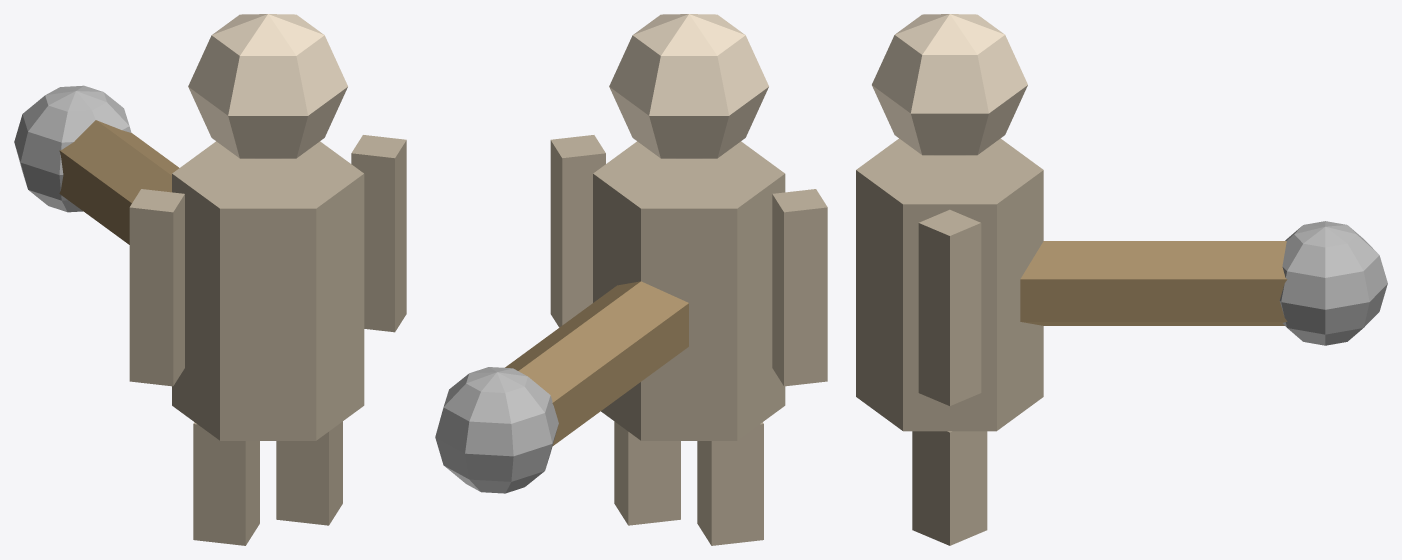
The model's file is siege_operator.glb.
3 renders of one model, left to right at view 1: azimuth 30°, elevation 25°; view 2: azimuth 150°, elevation 25°; view 3: azimuth 270°, elevation 25°, orthographic. The views are drawn at different scales.
Parts seen in each view (by area): view 1: sop_torso, sop_head, sop_al, sop_ar, ram, tip, sop_ll, sop_lr; view 2: sop_torso, sop_head, ram, tip, sop_al, sop_ar, sop_ll, sop_lr; view 3: sop_torso, ram, sop_head, sop_ar, tip, sop_lr.
Boxes of the visible parts, x1,y1,x2,y2 form: sop_torso: [172, 141, 364, 440]; sop_head: [188, 14, 347, 158]; sop_al: [129, 189, 184, 386]; sop_ar: [351, 135, 406, 332]; ram: [59, 120, 179, 244]; tip: [14, 85, 131, 212]; sop_ll: [193, 422, 259, 545]; sop_lr: [276, 421, 342, 525]; sop_torso: [593, 141, 785, 440]; sop_head: [609, 14, 768, 158]; ram: [505, 281, 688, 446]; tip: [435, 367, 558, 493]; sop_al: [772, 189, 827, 386]; sop_ar: [550, 135, 605, 327]; sop_ll: [697, 422, 763, 545]; sop_lr: [614, 421, 680, 525]; sop_torso: [856, 138, 1043, 431]; ram: [1020, 241, 1287, 325]; sop_head: [872, 14, 1027, 155]; sop_ar: [918, 209, 981, 405]; tip: [1279, 221, 1387, 345]; sop_lr: [912, 431, 987, 545].
Bounding box in the file's own units: 0.1 × 0.175 × 0.17.
